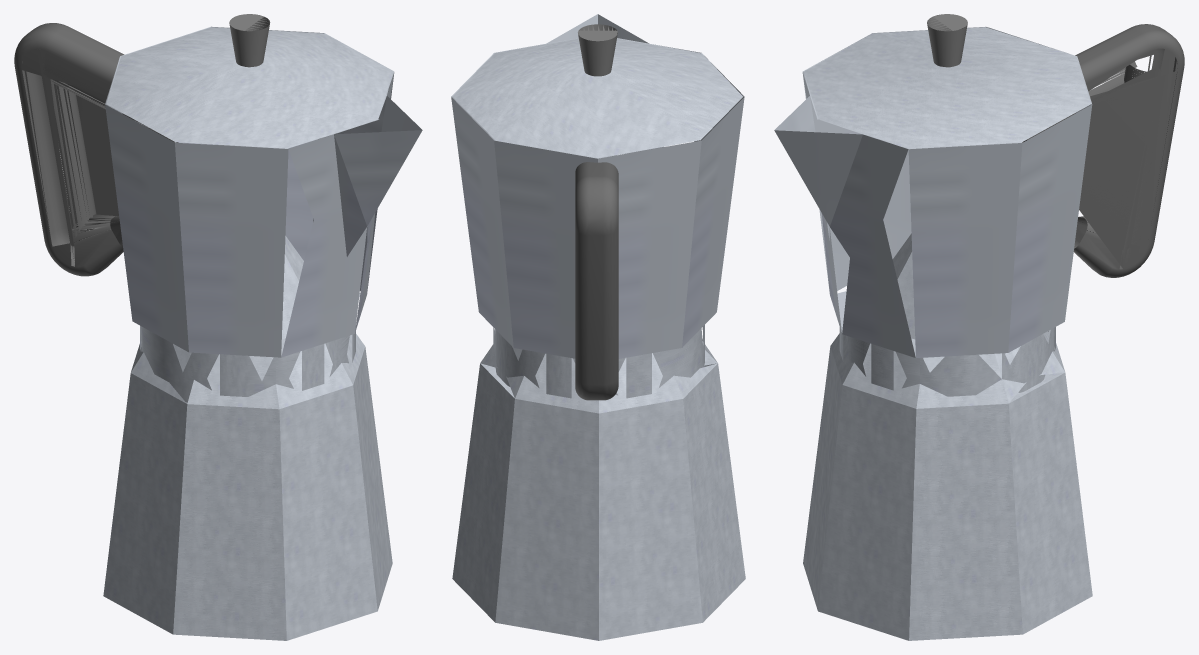
File: cafe.gltf
3 views of the same model, side by side, from view 1: azimuth 30°, elevation 25°; view 2: azimuth 150°, elevation 25°; view 3: azimuth 270°, elevation 25° (orthographic). The views are drawn at different scales.
Parts seen in each view (by area): view 1: Layer0; view 2: Layer0; view 3: Layer0.
Part boxes in pixels (bbox=[...]): Layer0: bbox=[14, 14, 422, 640]; Layer0: bbox=[451, 14, 745, 640]; Layer0: bbox=[774, 14, 1184, 640].
Bounding box in the file's own units: 1.19 × 2.51 × 1.68.
3 materials, 1 textured.
